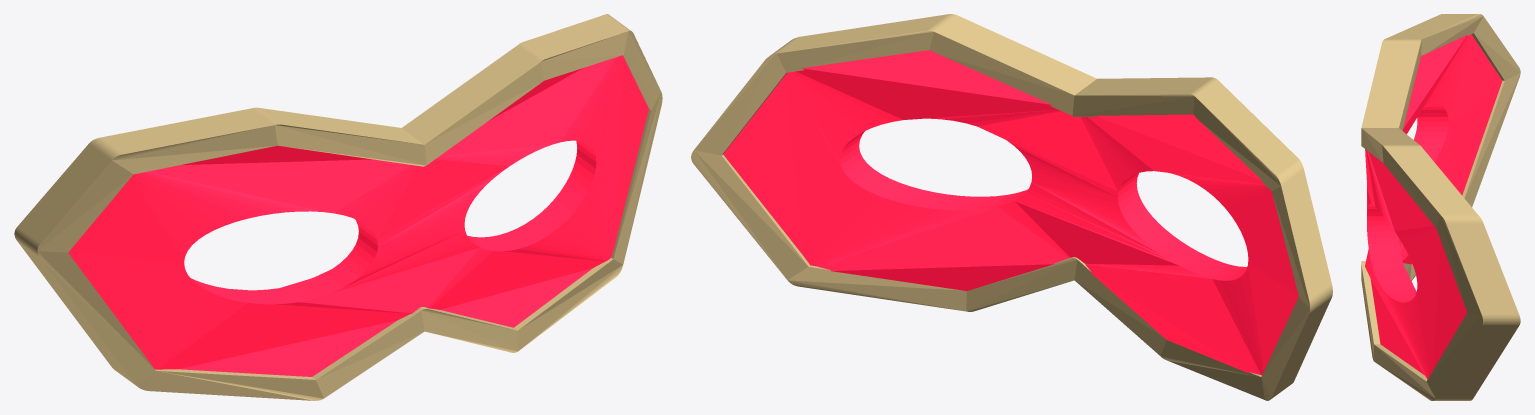
Rendered from bv_mask.glb.
The picture shows the model from 3 angles, left to right: view 1: azimuth 30°, elevation 25°; view 2: azimuth 150°, elevation 25°; view 3: azimuth 270°, elevation 25°; orthographic projection. The views are drawn at different scales.
Parts seen in each view (by area): view 1: maskred, gold; view 2: maskred, gold; view 3: gold, maskred.
Boxes of the visible parts, x1,y1,x2,y2 form: maskred: (68, 55, 648, 376); gold: (14, 14, 662, 400); maskred: (723, 50, 1298, 375); gold: (691, 14, 1332, 400); gold: (1361, 14, 1520, 400); maskred: (1365, 34, 1502, 379).
Size of the model in its own units: 0.376 by 0.161 by 0.1018.
